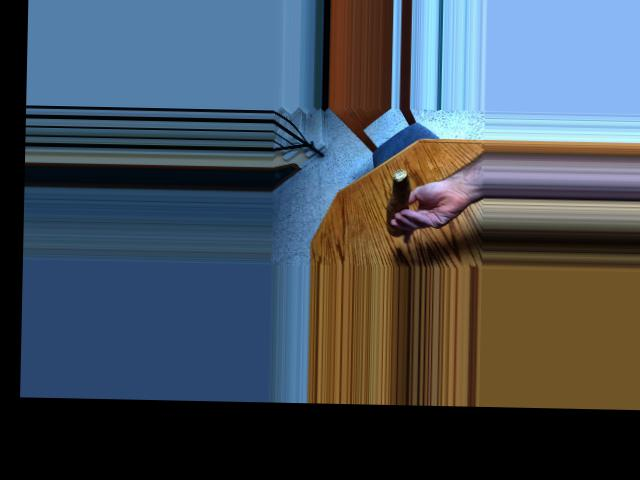sweet_potato: (382, 174, 415, 231)
